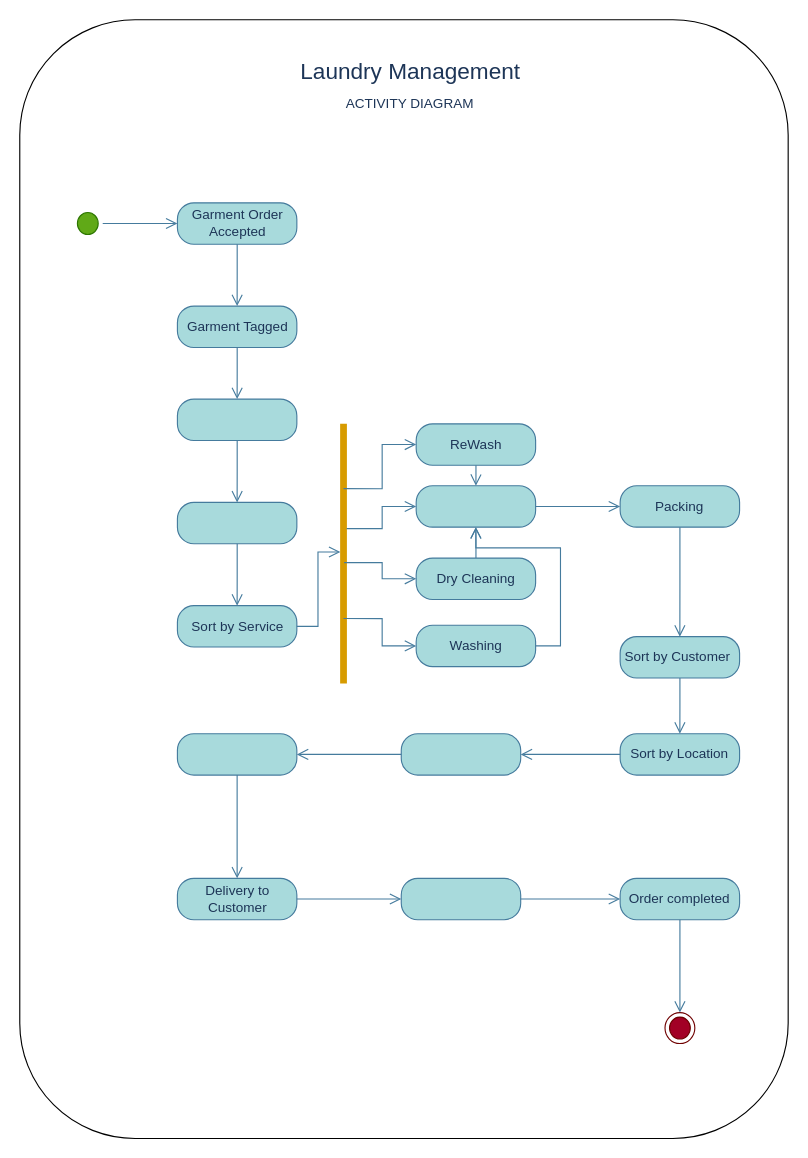
The diagram is 808 pixels wide and 1158 high, and some of its shapes have lost their labels. Each missing label, with the centre of its shape:
"Ironing" goes at point 475,506.
"Remove Tag" goes at point 460,898.
"Transfer In to Shop" goes at point 460,754.
"Transfer In to Workshop" goes at point 236,522.
"Transfer Out to Shop" goes at point 236,754.
"Transfer Out to Workshop" goes at point 236,419.
